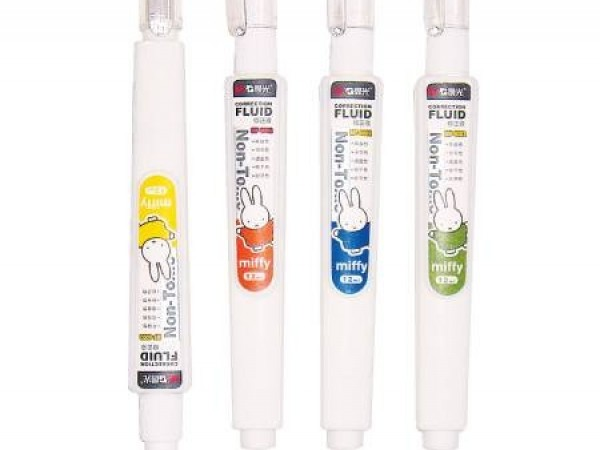Correction_fluid: (310, 1, 382, 449), (218, 1, 290, 449), (120, 1, 192, 449), (413, 1, 477, 450)
